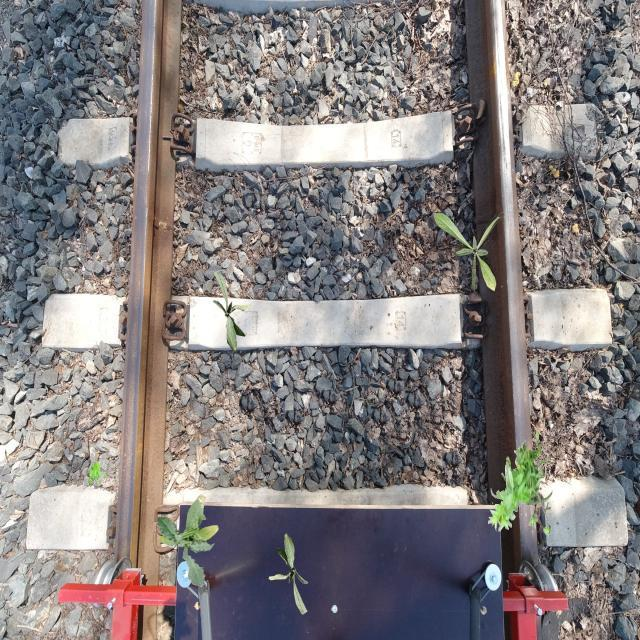Plant: (488, 430, 552, 538), (157, 494, 220, 588), (434, 211, 506, 292), (213, 269, 253, 352), (269, 533, 309, 616), (87, 461, 108, 486)
